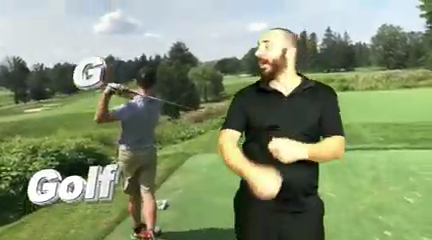G: (251, 132, 296, 204)
